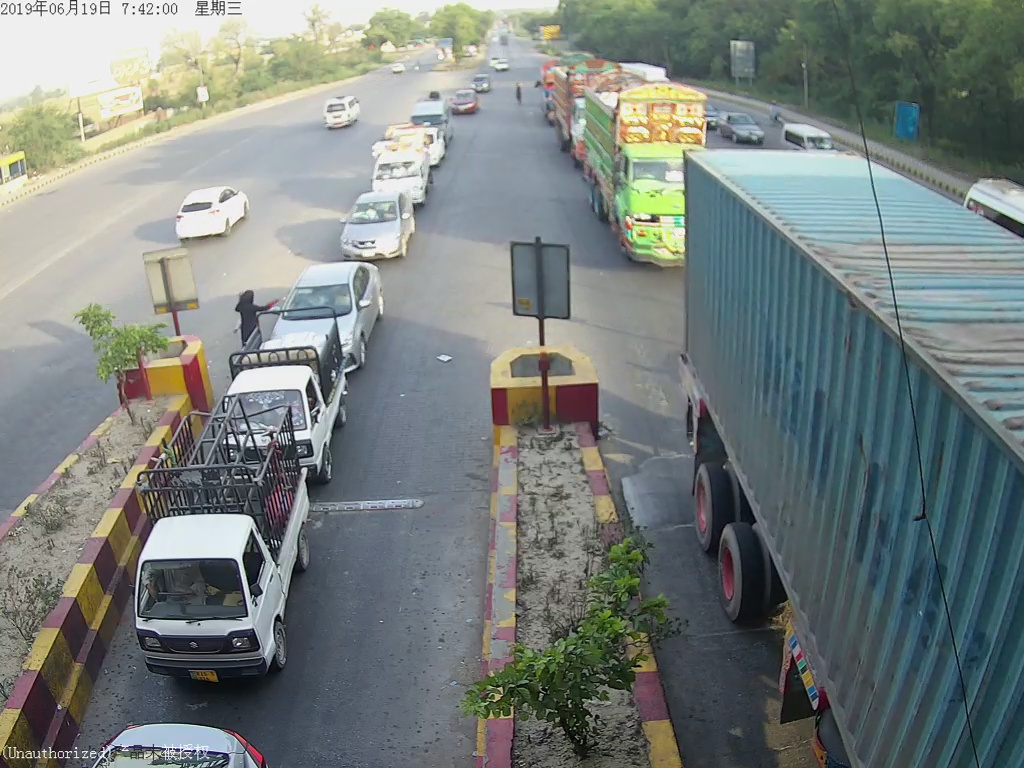Cat-1: (136, 410, 326, 688), (231, 322, 348, 412)
Cat-4: (587, 83, 682, 280)
